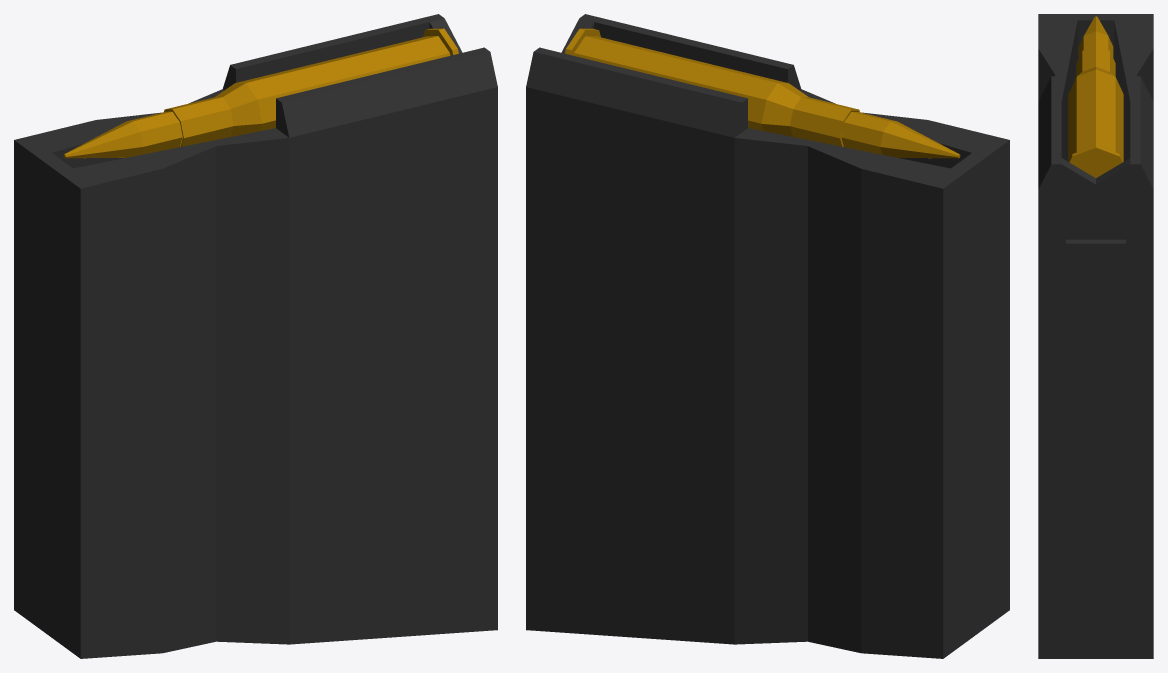
The model's file is barrett_m82_magazine.glb.
3 renders of one model, left to right at view 1: azimuth 30°, elevation 25°; view 2: azimuth 150°, elevation 25°; view 3: azimuth 270°, elevation 25°, orthographic. The views are drawn at different scales.
Parts seen in each view (by area): view 1: Cube.001_5 (×2); view 2: Cube.001_5 (×2); view 3: Cube.001_5 (×2).
Part boxes in pixels (box(x1,y1,x2,y2)): Cube.001_5 (×2): box(14, 14, 497, 658); Cube.001_5 (×2): box(526, 14, 1009, 658); Cube.001_5 (×2): box(1038, 14, 1153, 658).
Size of the model in its own units: 1.55 by 2.03 by 0.4208.
